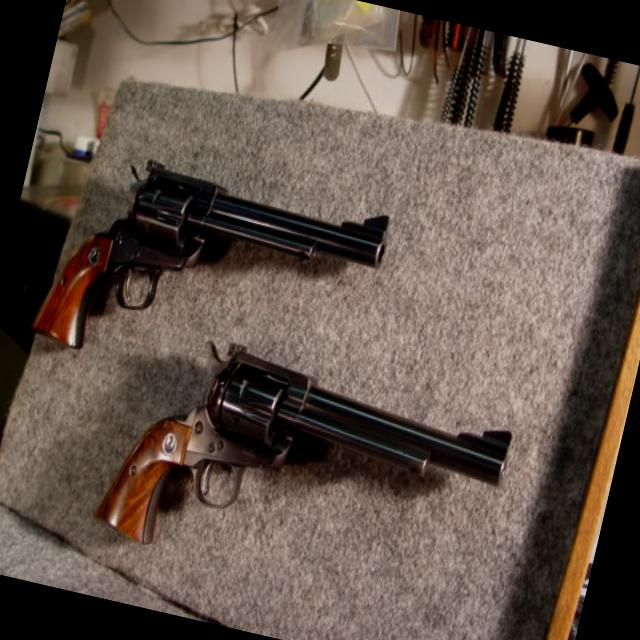handgun: (89, 320, 521, 613), (21, 131, 398, 417)
